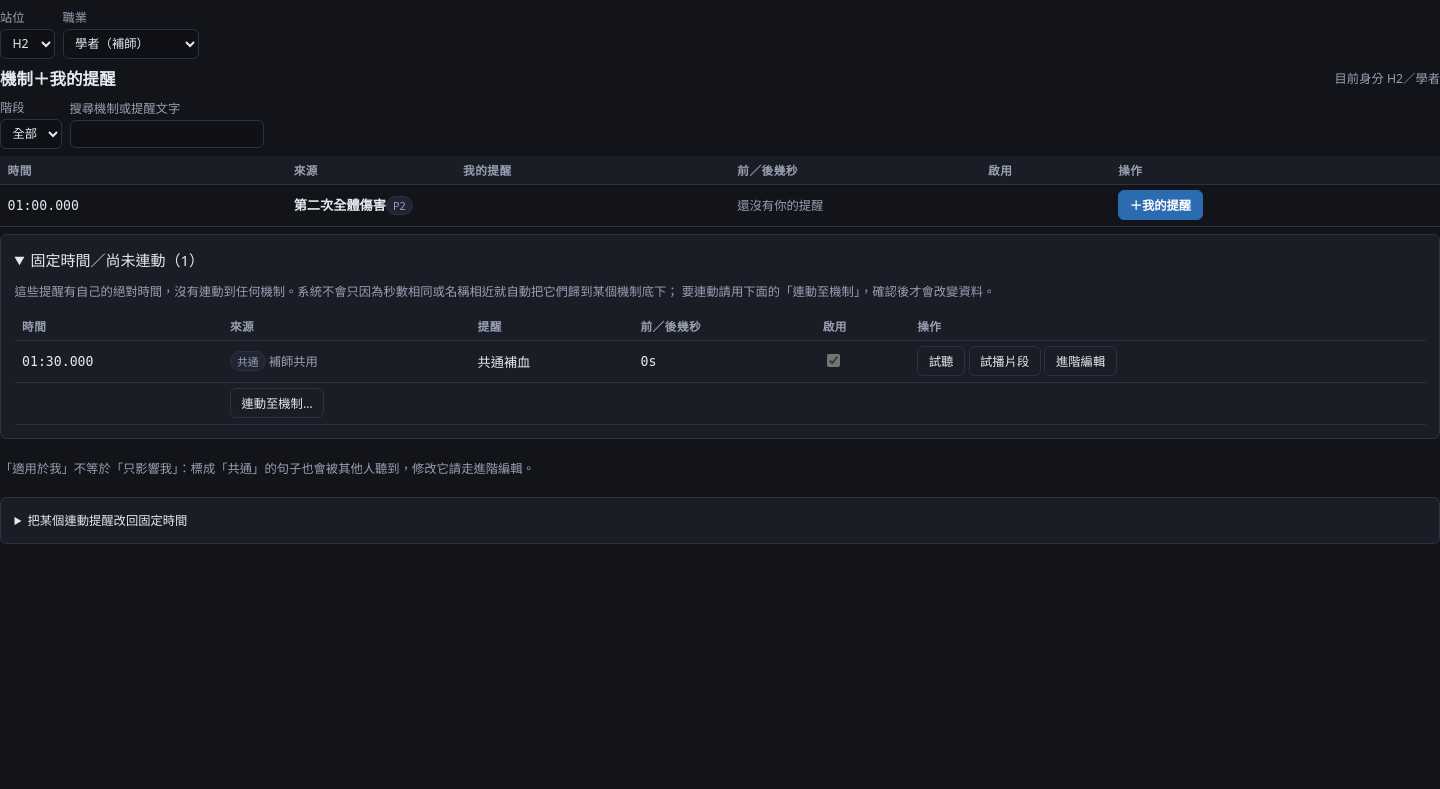
Test case: C. 從機制列表快速追加 › C17b. 超出可用時間不能儲存並說明原因
The image size is (1440, 789).
Click the button "＋我的提醒": (1160, 205) 1118,190 -> 1203,220
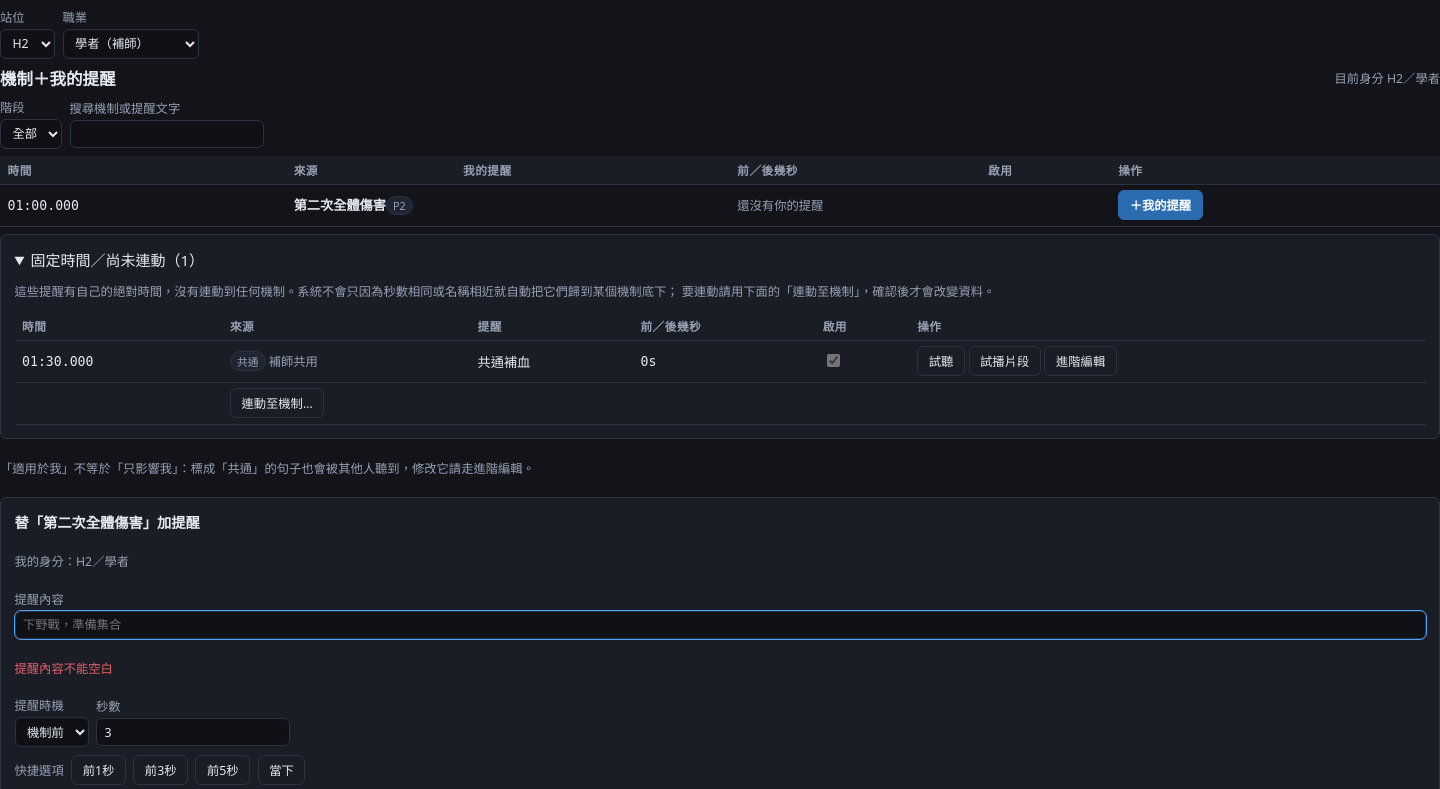
In the field labelled "提醒內容": (720, 625) 14,611 -> 1426,639, type "太早了"
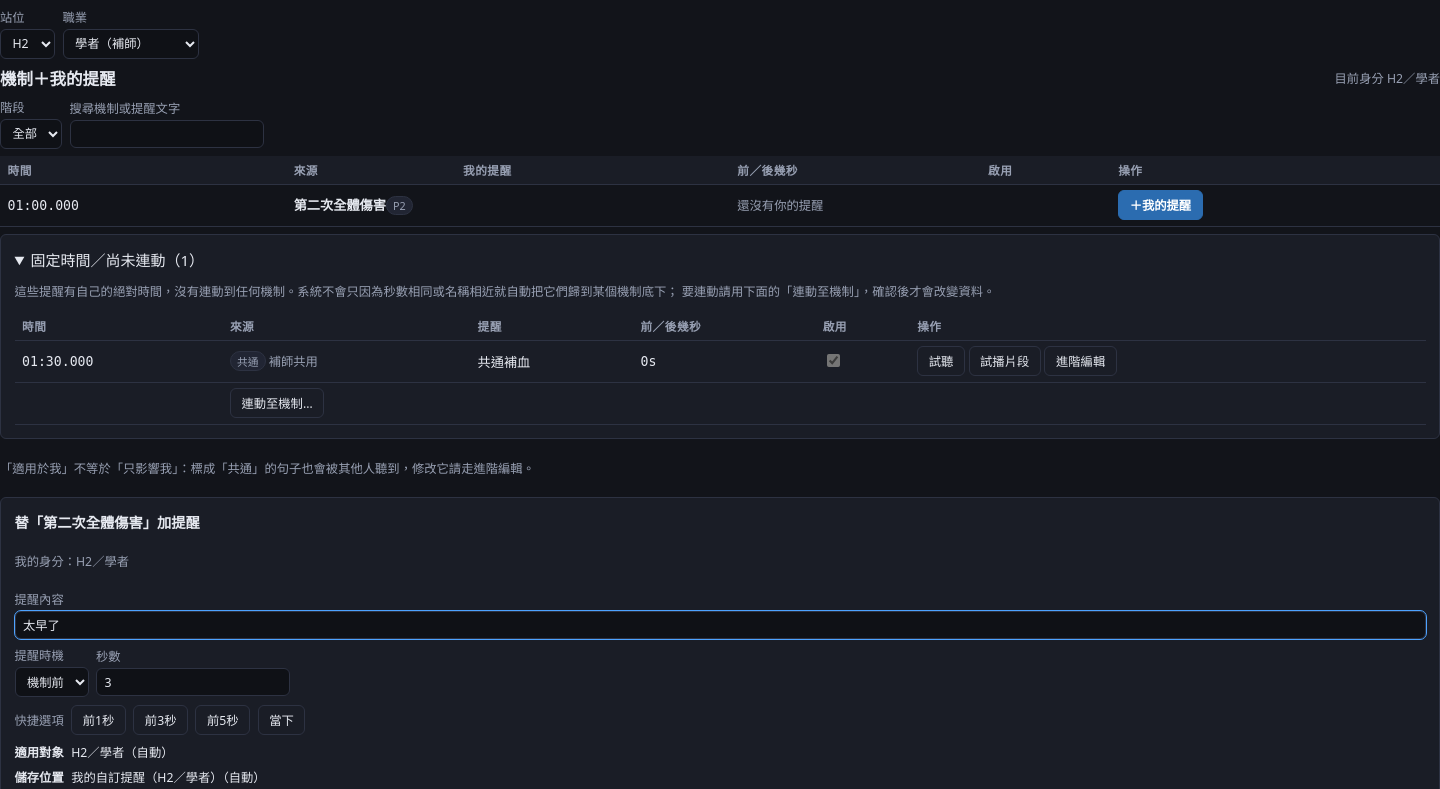
Replace the text in the number field labelled "秒數" with "90": (193, 682) 96,668 -> 290,696
(page scrolled)
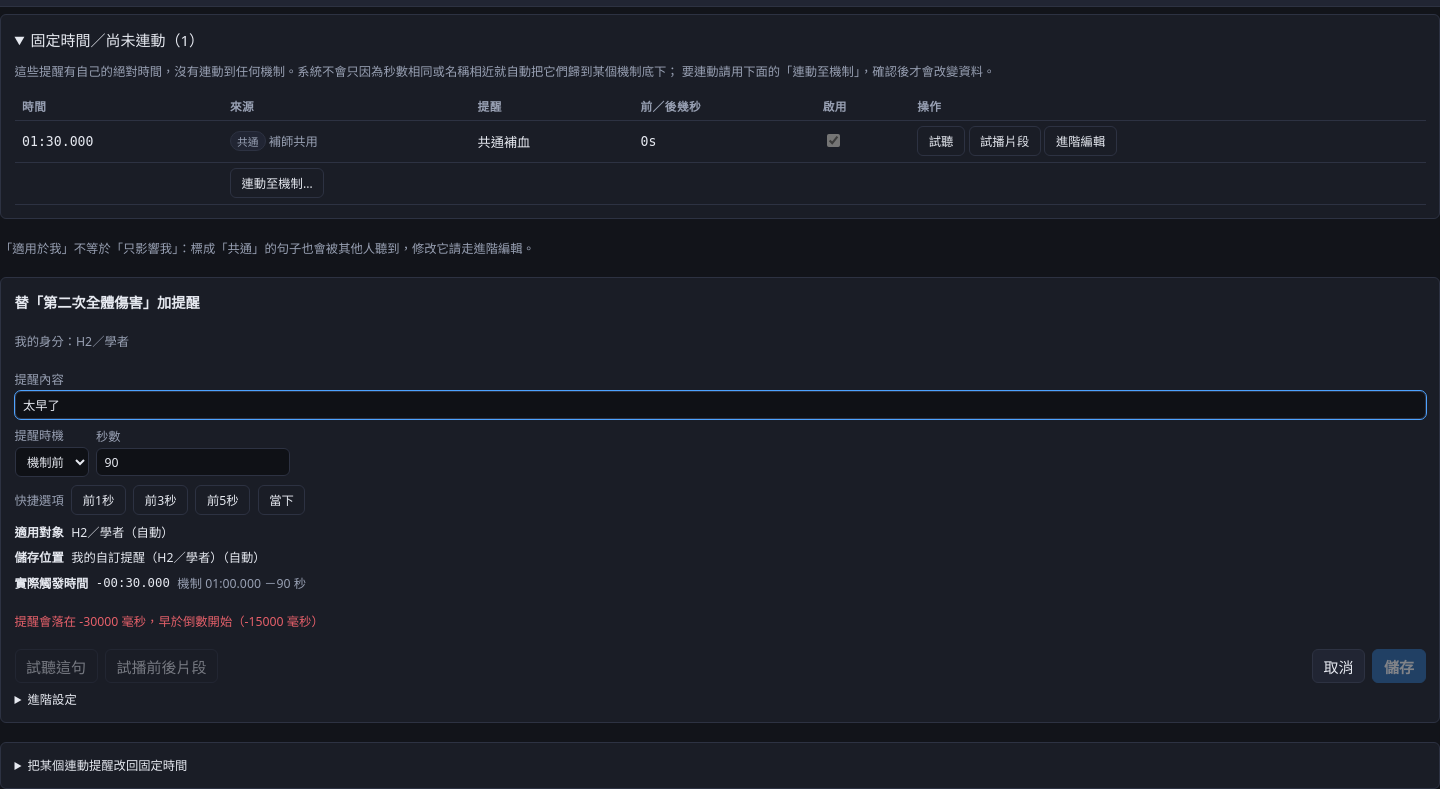
Check: the text "提醒會落在 -30000 毫秒，早於倒數開始（-15000 毫秒）" is shown, box 14,613 -> 324,630
Check: the button "儲存" is disabled, box 1372,649 -> 1426,683
